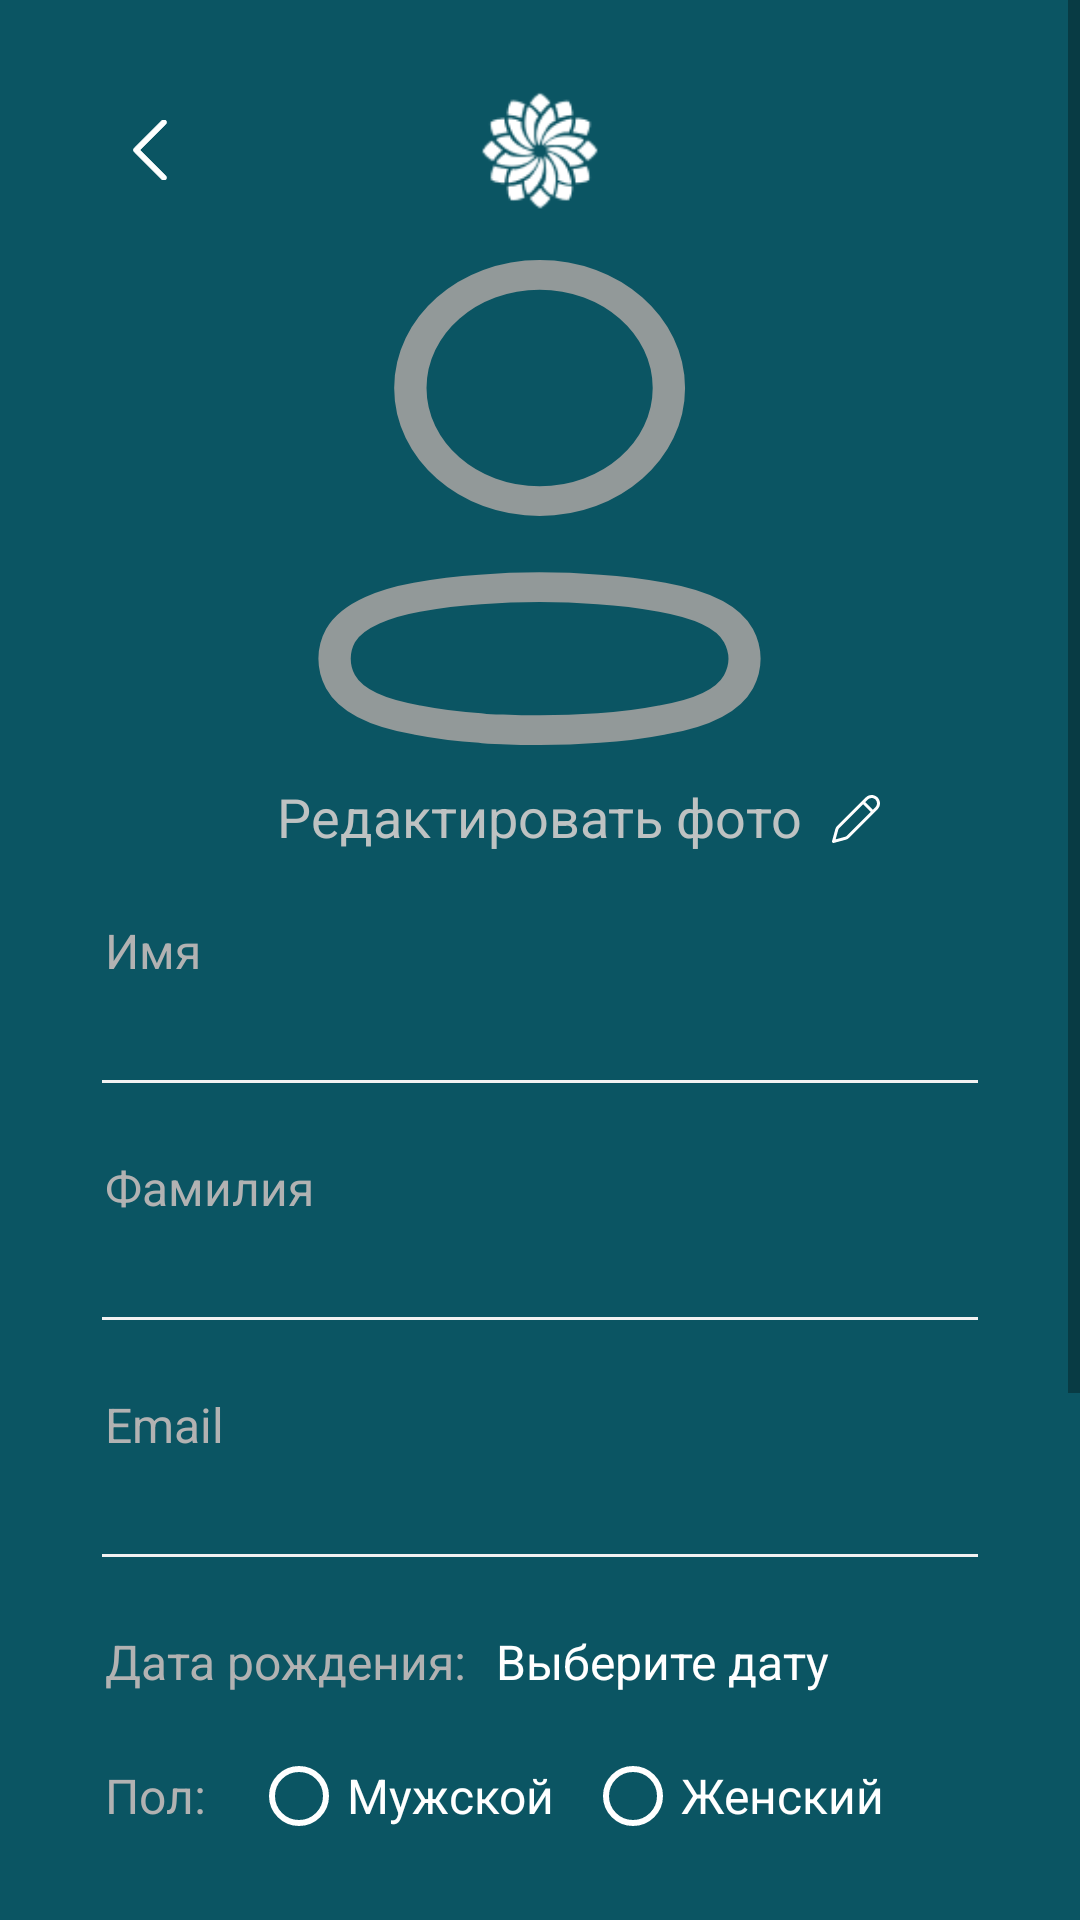

Screen size 1080x1920. Icon name, then its center in pixels as (x=x, y=y):
profile edit: (x=856, y=819)
